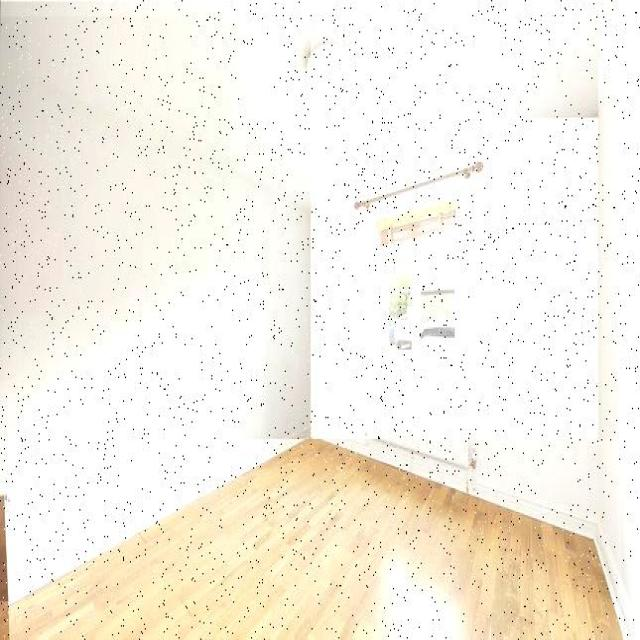Wall: (0, 17, 311, 601), (0, 2, 619, 208), (10, 440, 621, 639), (312, 118, 599, 537), (599, 9, 640, 636), (226, 0, 444, 60), (387, 210, 399, 213)
